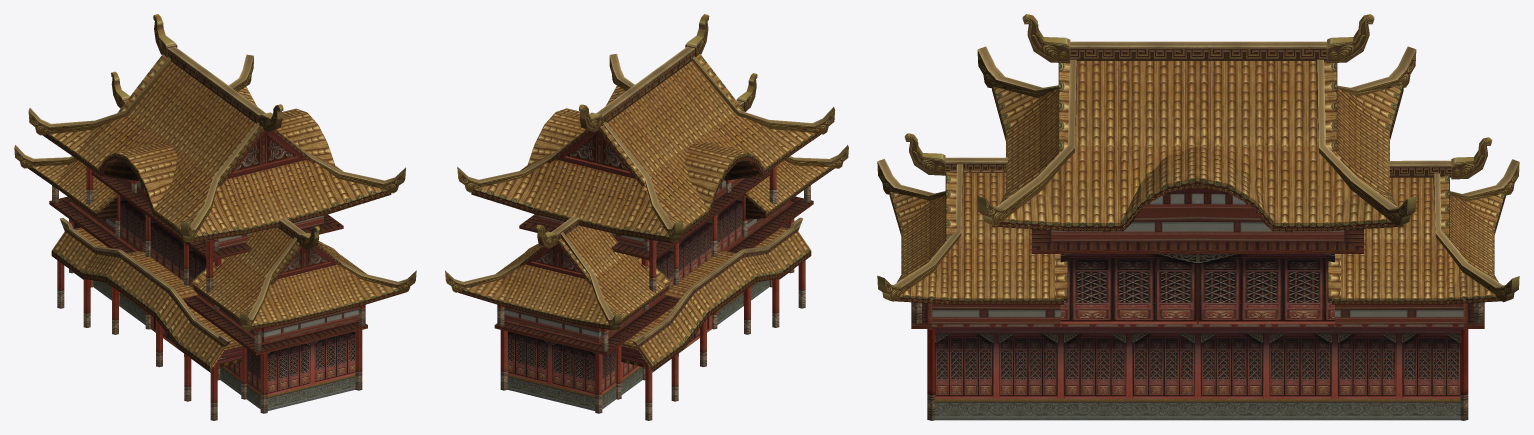
Rendered from Yland1_fz_02 Yland1.FBX.
3 views of the same model, side by side, from view 1: azimuth 30°, elevation 25°; view 2: azimuth 150°, elevation 25°; view 3: azimuth 270°, elevation 25° (orthographic). The views are drawn at different scales.
Visible parts, largest first — view 1: Yland1_fz_02 Yland1; view 2: Yland1_fz_02 Yland1; view 3: Yland1_fz_02 Yland1.
Boxes of the visible parts, x1,y1,x2,y2 form: Yland1_fz_02 Yland1: (14,14,416,420); Yland1_fz_02 Yland1: (445,14,848,420); Yland1_fz_02 Yland1: (877,14,1519,420).
Size of the model in its own units: 21.15 by 25.4 by 37.66.
